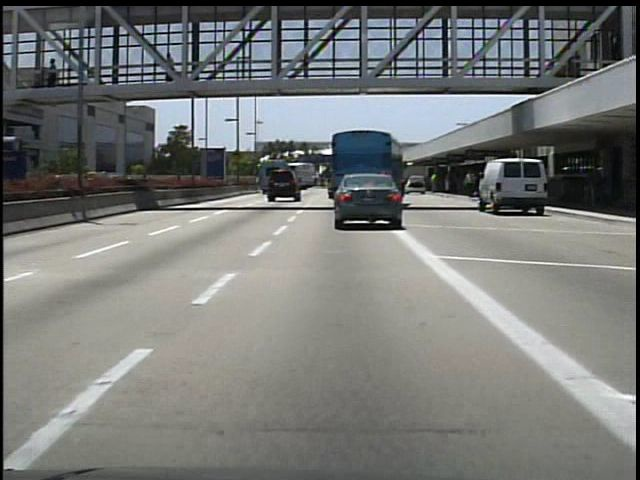person: (585, 166, 607, 211), (162, 51, 182, 93), (46, 55, 64, 89), (464, 166, 478, 199)
